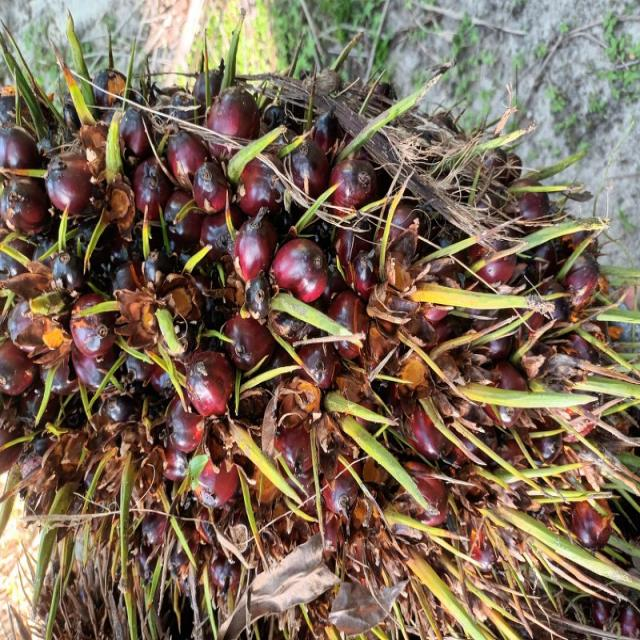fraksi 1: (2, 0, 475, 640)
